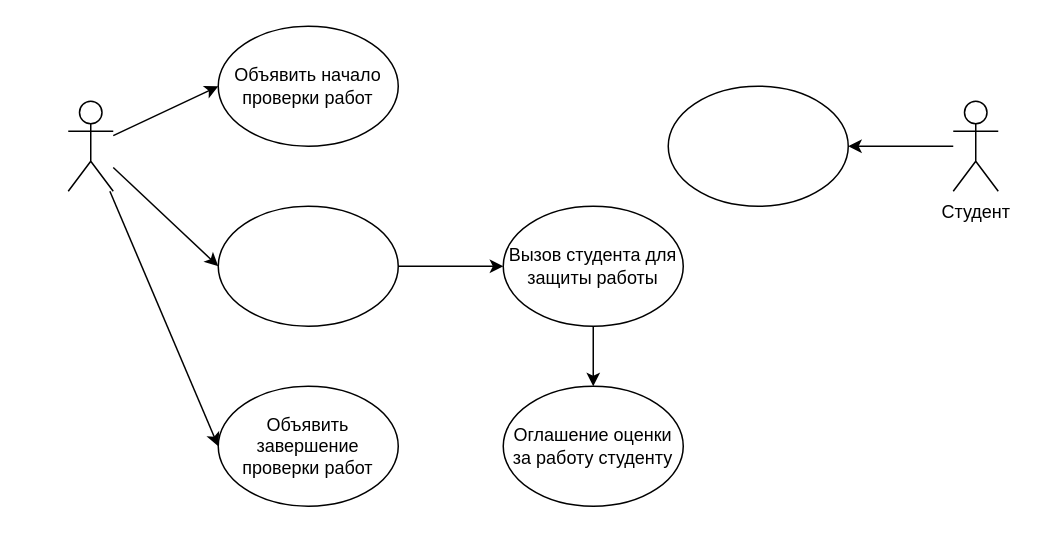
Image size: 1037x533. Some labels were removed from this diagram. Here are the shapes that lost their labels. From the top down, the box of each, then its label:
(67, 100, 113, 191): Преподаватель
(667, 85, 848, 206): Защита своей работы
(217, 205, 398, 326): Проверка работы студента
